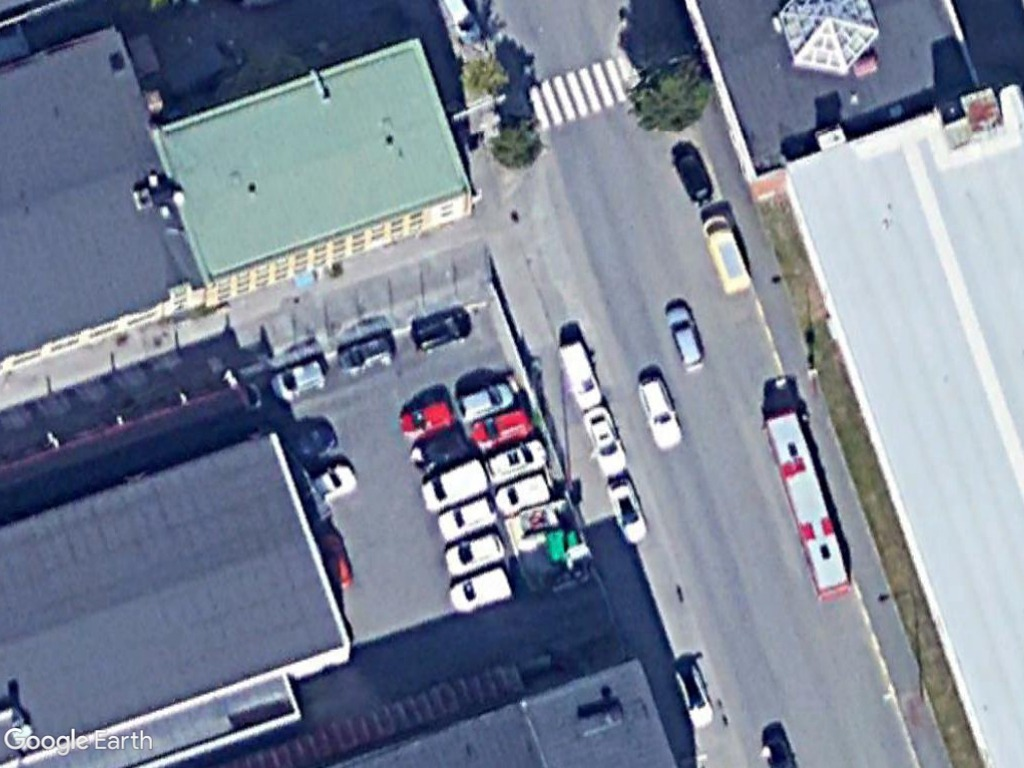bus: (761, 402, 859, 603)
car: (573, 405, 643, 487), (632, 371, 691, 455), (659, 295, 714, 379), (407, 299, 479, 359), (437, 525, 509, 580), (603, 474, 655, 550), (467, 398, 533, 455), (671, 136, 717, 210), (456, 372, 516, 426), (337, 328, 401, 378), (394, 392, 458, 439)
van: (695, 206, 761, 300), (418, 452, 489, 515), (555, 333, 605, 416), (444, 561, 513, 620), (433, 490, 500, 547), (491, 465, 553, 517), (265, 353, 329, 402)
